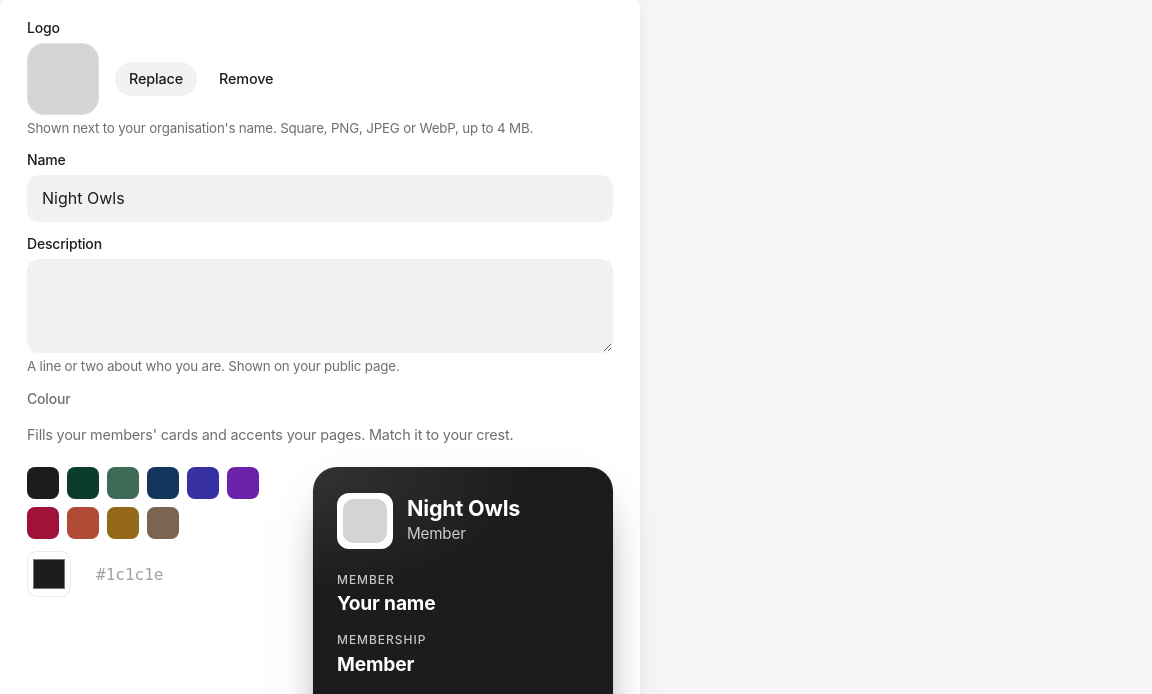
SettingsTab › removes the logo when asked
Step 1. Click the button "Remove" → (246, 79), box [205,62,287,96]
(page scrolled)
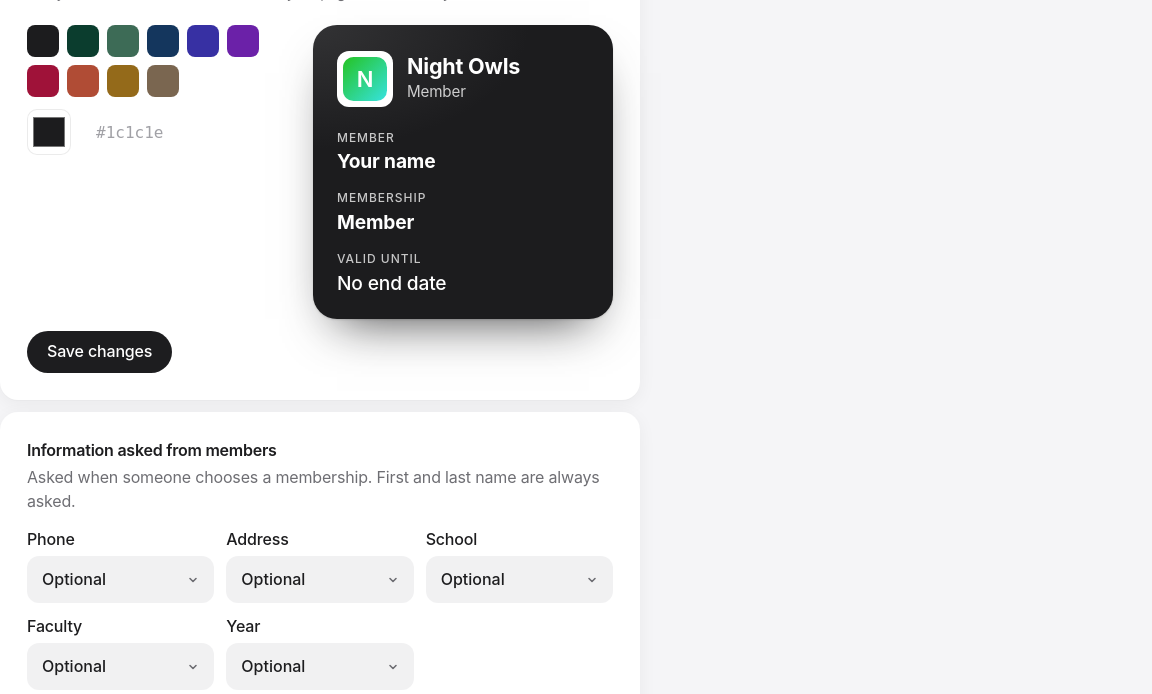
Step 2. Click the button "Save changes" → (100, 352), box [27,331,172,373]
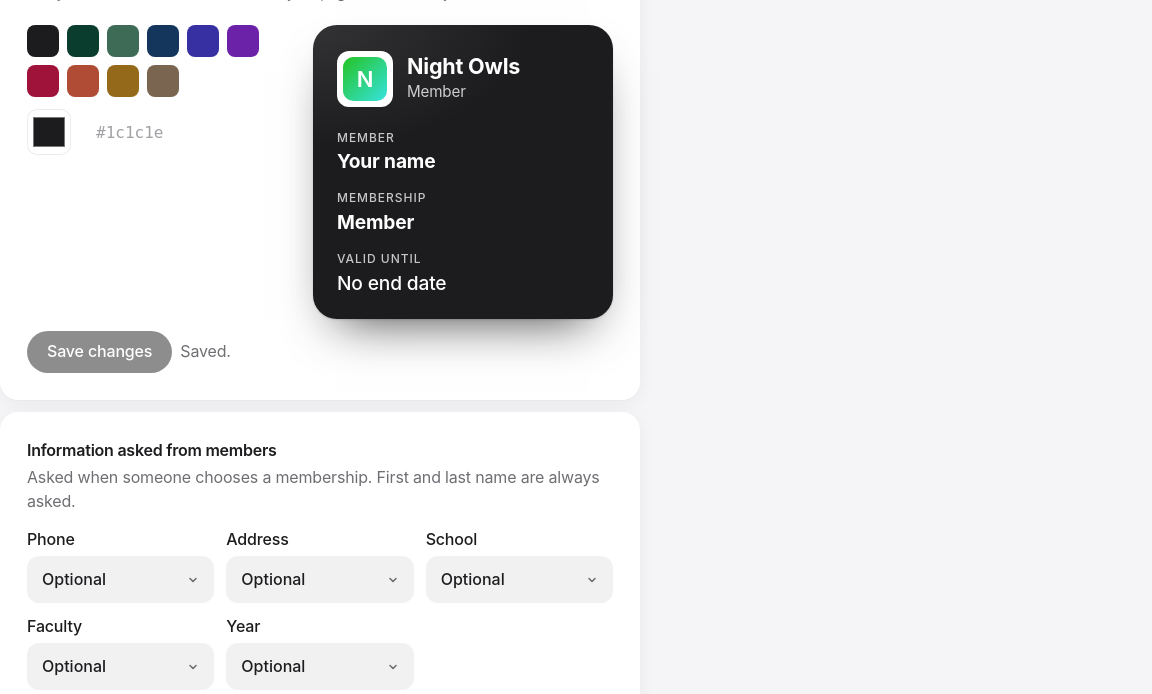
Expected: the message reads "Saved.", [180,341,231,361]
